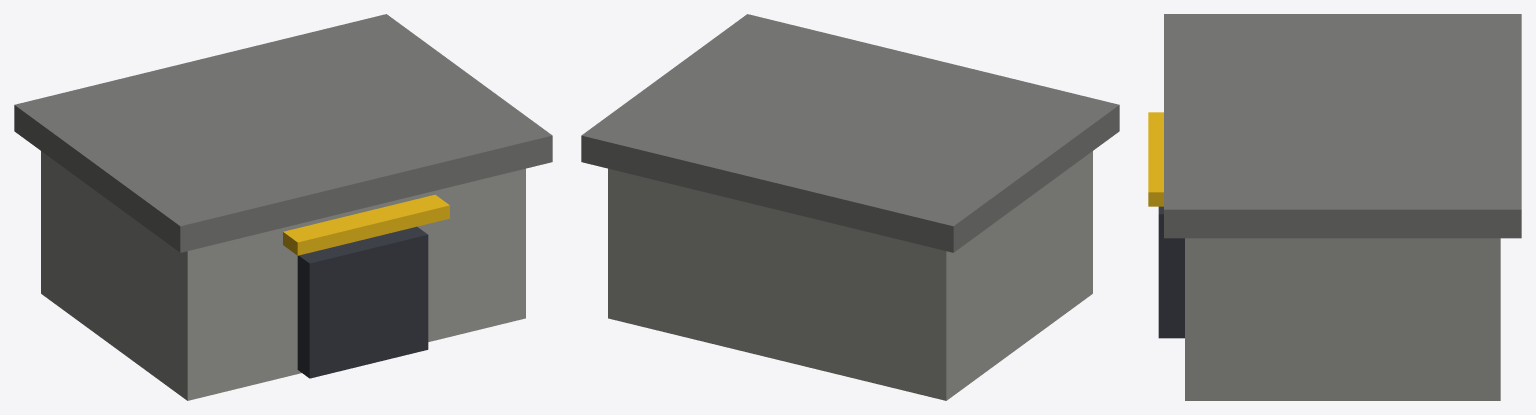
The model's file is bunker_entrance.glb.
3 renders of one model, left to right at view 1: azimuth 30°, elevation 25°; view 2: azimuth 150°, elevation 25°; view 3: azimuth 270°, elevation 25°, orthographic. The views are drawn at different scales.
Visible parts, largest first — view 1: bunker_entrance; view 2: bunker_entrance; view 3: bunker_entrance.
Boxes of the visible parts, box(x1,y1,x2,y2) form: bunker_entrance: box(14, 14, 552, 400); bunker_entrance: box(581, 14, 1119, 400); bunker_entrance: box(1148, 14, 1521, 400).
Size of the model in its own units: 4.4 by 2.1 by 3.55.
